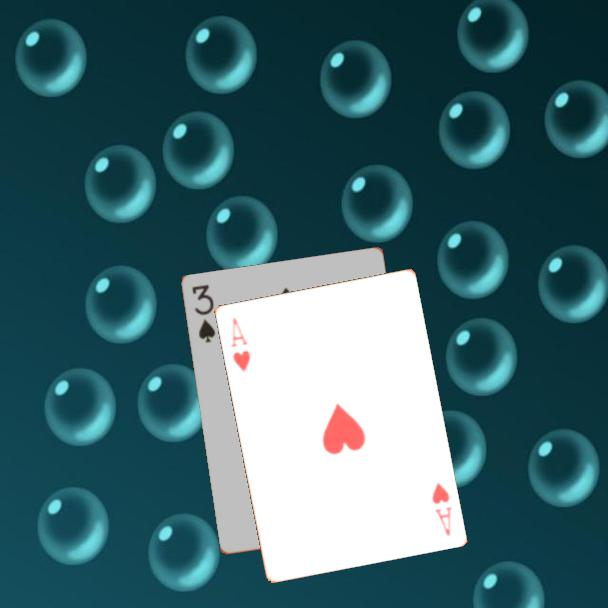h01: (428, 479, 455, 539), (227, 314, 253, 375)
s03: (189, 281, 218, 346)
